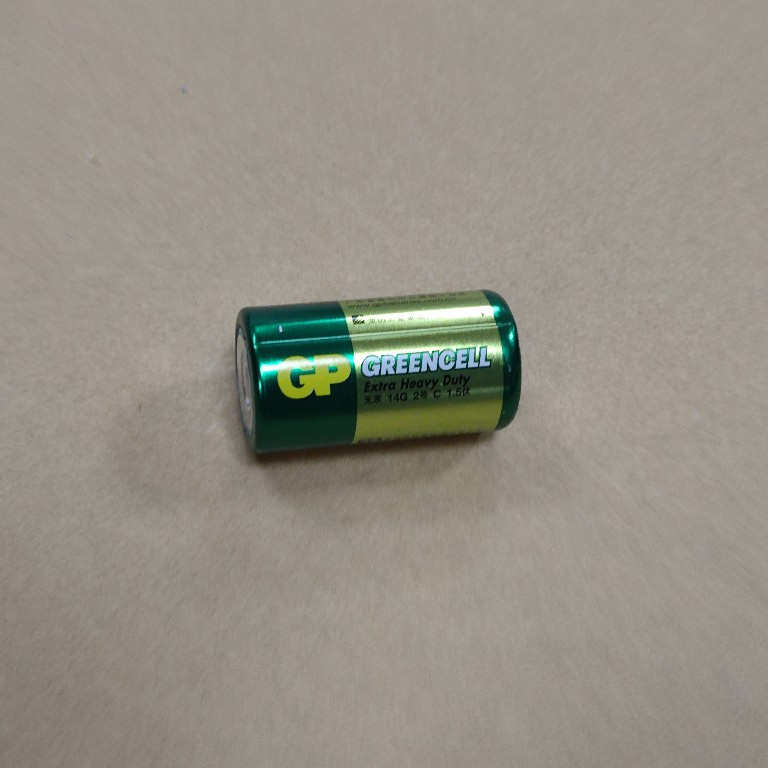charge: (226, 288, 529, 461)
